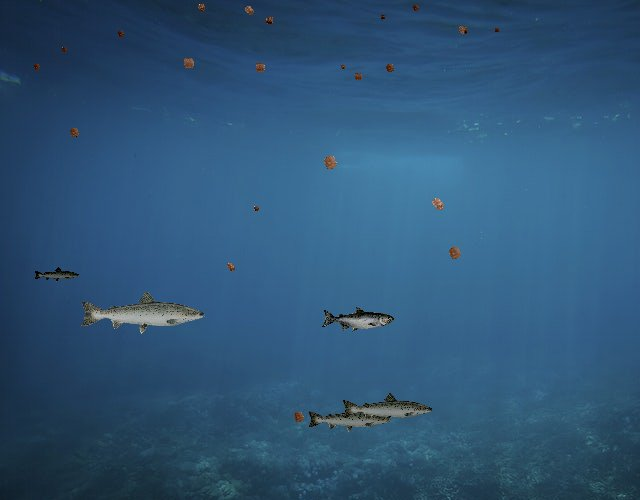Fish: (78, 289, 207, 335), (341, 392, 435, 426), (306, 403, 392, 434), (321, 307, 394, 333), (33, 267, 80, 283)
Pellet: (424, 190, 451, 217), (442, 240, 468, 266), (177, 52, 200, 75), (288, 406, 310, 428), (222, 258, 240, 276), (114, 27, 128, 41), (250, 202, 262, 214)
